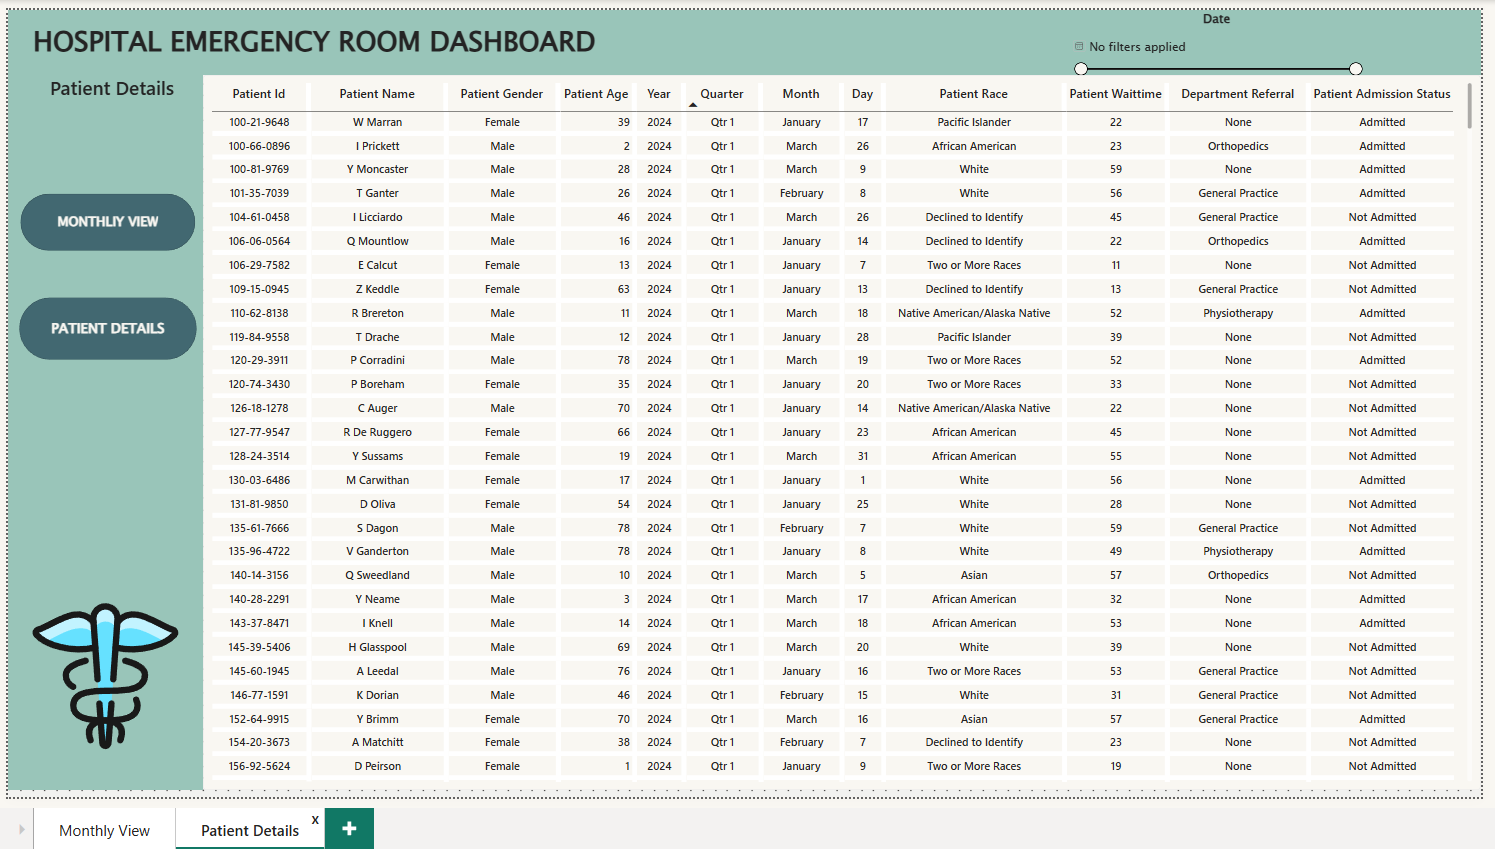

The page's visual inventory and layout, read from the dashboard file:
{"tool":"powerbi","page":{"name":"Patient Details ","canvas":[2900,1550],"ordinal":1},"visuals":[{"type":"shape","box":[0,0,384,1536],"z":0,"group":"g1"},{"type":"shape","box":[384,0,2624,128],"z":0},{"type":"slicer","title":"Date","fields":{"Values":["Date_table.Date"]},"box":[2090.3,0,580.6,129],"z":1000},{"type":"textbox","box":[48.4,22.6,1616.1,106.5],"z":1000,"group":"g1"},{"type":"tableEx","fields":{"Values":["Hospital ER_Data.Patient Id","Hospital ER_Data.Patient Full Name","Hospital ER_Data.Patient Gender","Hospital ER_Data.Patient Age","Hospital ER_Data.Patient Admission Date.Variation.Date Hierarchy.Year","Hospital ER_Data.Patient Admission Date.Variation.Date Hierarchy.Quarter","Hospital ER_Data.Patient Admission Date.Variation.Date Hierarchy.Month","Hospital ER_Data.Patient Admission Date.Variation.Date Hierarchy.Day","Hospital ER_Data.Patient Race","Hospital ER_Data.Patient Waittime","Hospital ER_Data.Department Referral","Hospital ER_Data.Patient Admission Status"]},"box":[384,128,2516,1408],"z":2000},{"type":"group","id":"g1","title":"Group 1","box":[0,0,1664.5,1536],"z":3000},{"type":"textbox","box":[0,129,367.7,64.5],"z":4000},{"type":"shape","box":[21.3,565.3,349.3,122.7],"z":5000},{"type":"shape","box":[24,362.7,344,112],"z":6000},{"type":"image","box":[41.9,1161.3,300,300],"z":6001}]}

Visuals, with their boxes on the page's 2900x1550 design canvas (x1, y1, x2, y2). These are canvas units, not pixel positions in the 1495x849 screenshot, which may show the page scaled, cropped or inside an application window:
shape: [x1=0, y1=0, x2=384, y2=1536]
shape: [x1=384, y1=0, x2=3008, y2=128]
"Date" slicer: [x1=2090, y1=0, x2=2671, y2=129]
textbox: [x1=48, y1=23, x2=1664, y2=129]
tableEx - Hospital ER_Data.Patient Id x Hospital ER_Data.Patient Full Name: [x1=384, y1=128, x2=2900, y2=1536]
"Group 1" group: [x1=0, y1=0, x2=1664, y2=1536]
textbox: [x1=0, y1=129, x2=368, y2=194]
shape: [x1=21, y1=565, x2=371, y2=688]
shape: [x1=24, y1=363, x2=368, y2=475]
image: [x1=42, y1=1161, x2=342, y2=1461]
